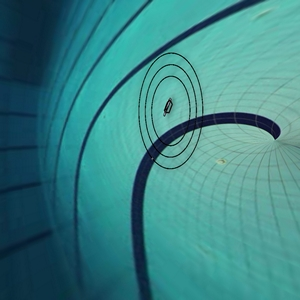circle: (124, 44, 226, 188)
submarine: (161, 96, 181, 126)
